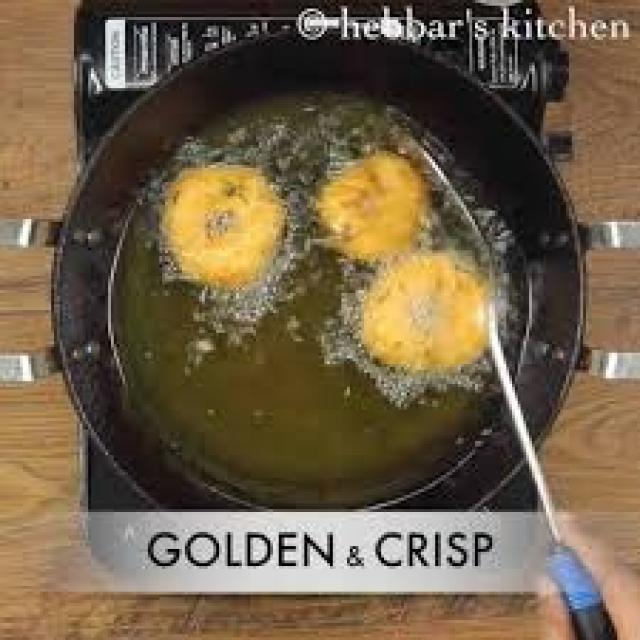medu vadai: (159, 162, 284, 287), (361, 253, 486, 370)
